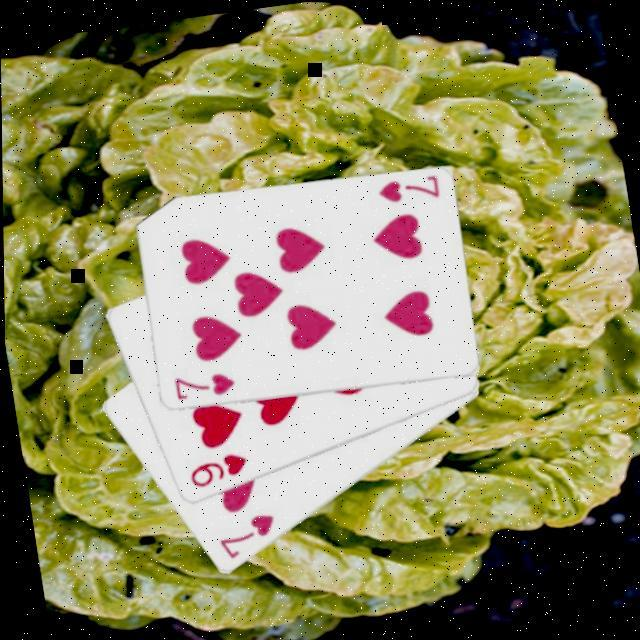7H: (212, 506, 284, 563), (170, 364, 240, 402), (375, 168, 444, 206)
9H: (184, 446, 254, 491)
